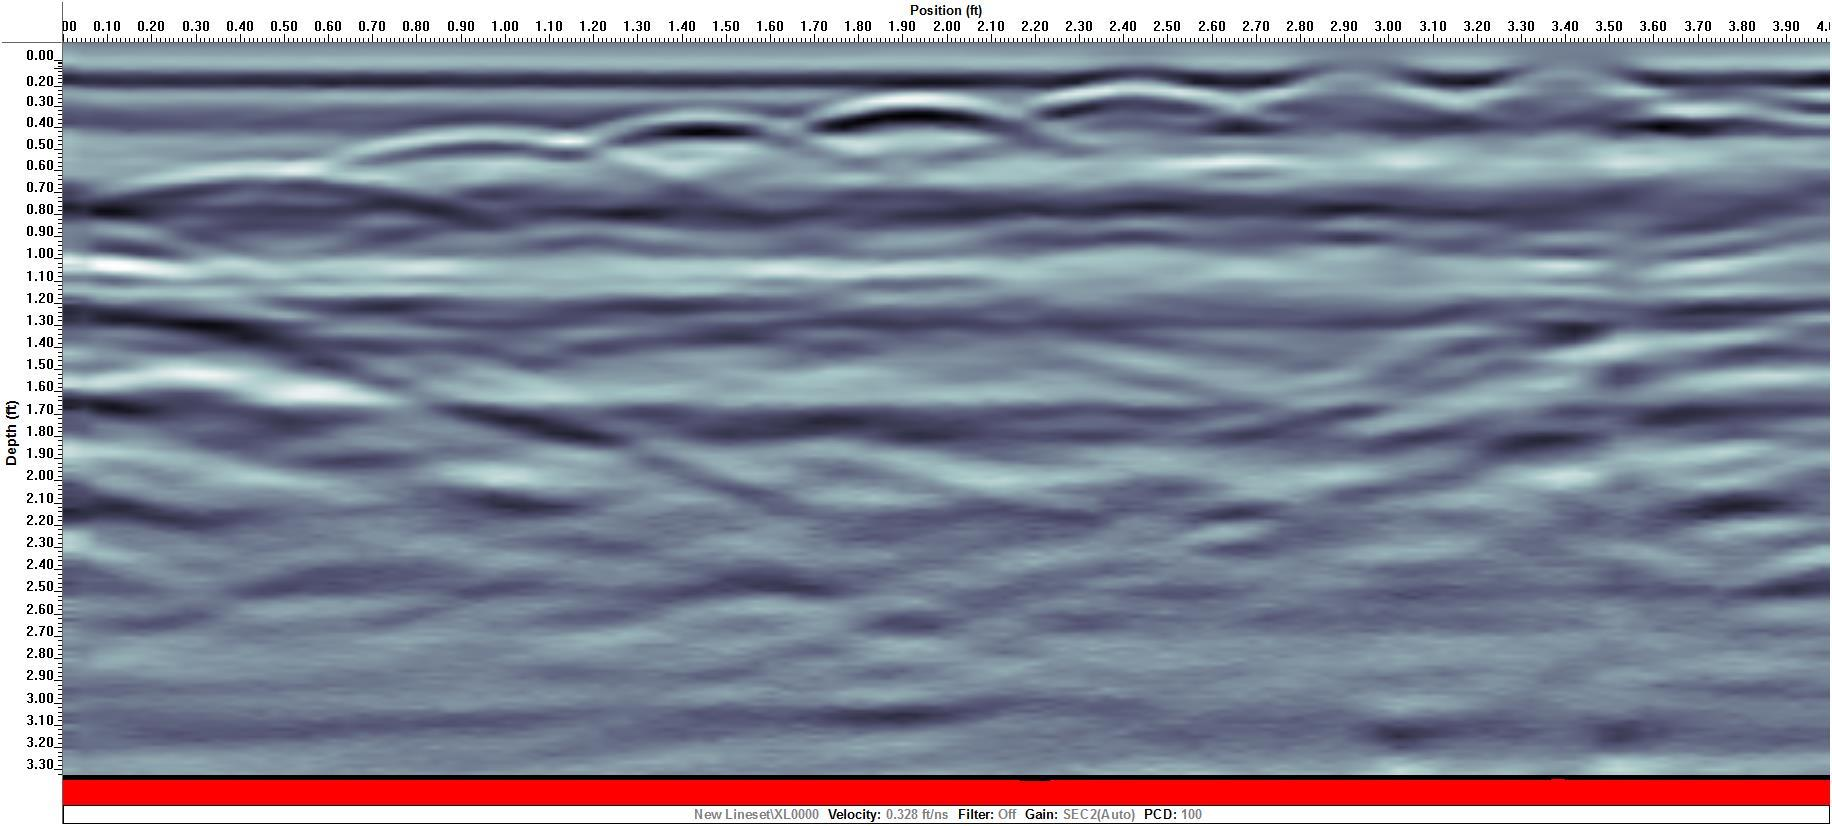hyperbola: (77, 143, 453, 230), (292, 119, 634, 194), (567, 95, 842, 174), (786, 84, 1045, 159), (1016, 65, 1261, 144)
